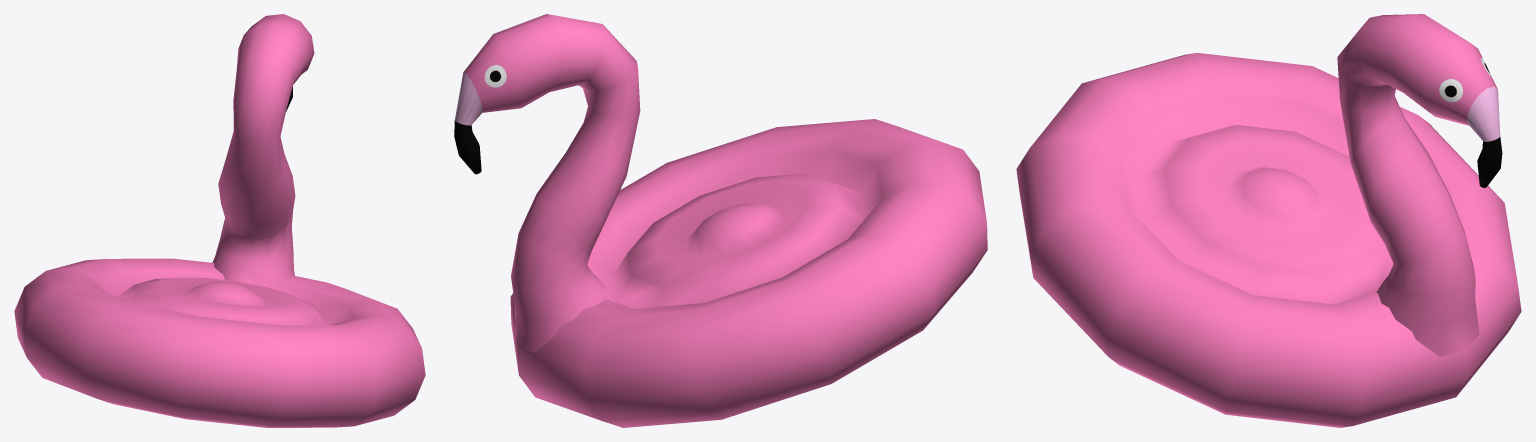
File: flamingo napuhanac.fbx
3 renders of one model, left to right at view 1: azimuth 30°, elevation 25°; view 2: azimuth 150°, elevation 25°; view 3: azimuth 270°, elevation 25°, orthographic. The views are drawn at different scales.
Visible parts, largest first — view 1: Flamingo napuhanac; view 2: Flamingo napuhanac; view 3: Flamingo napuhanac.
Part boxes in pixels (box(x1,y1,x2,y2)): Flamingo napuhanac: box(14, 14, 425, 427); Flamingo napuhanac: box(454, 14, 987, 427); Flamingo napuhanac: box(1016, 14, 1521, 427).
Size of the model in its own units: 1449 by 1301 by 1506.
